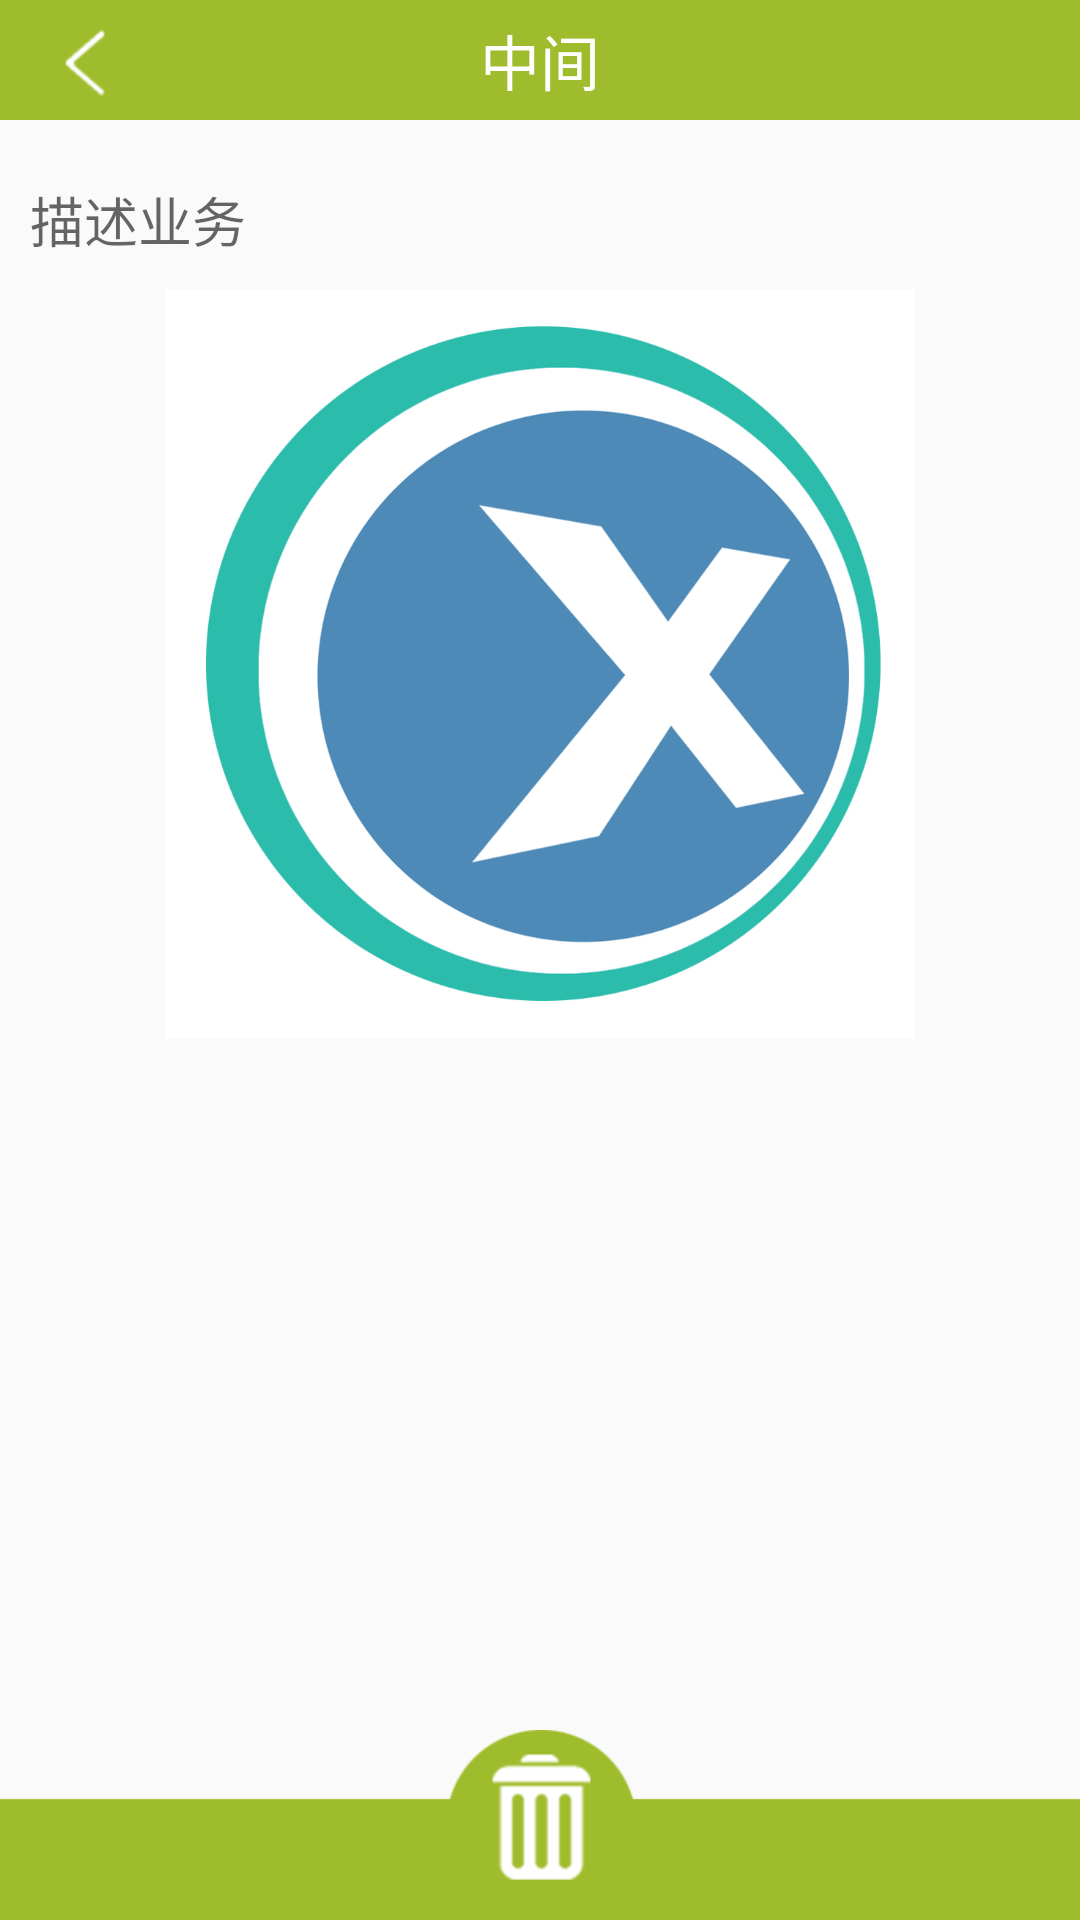

Screen size 1080 x 1920. Icon name, then its center in pixels as point (x, y):
back to: point (85, 63)
